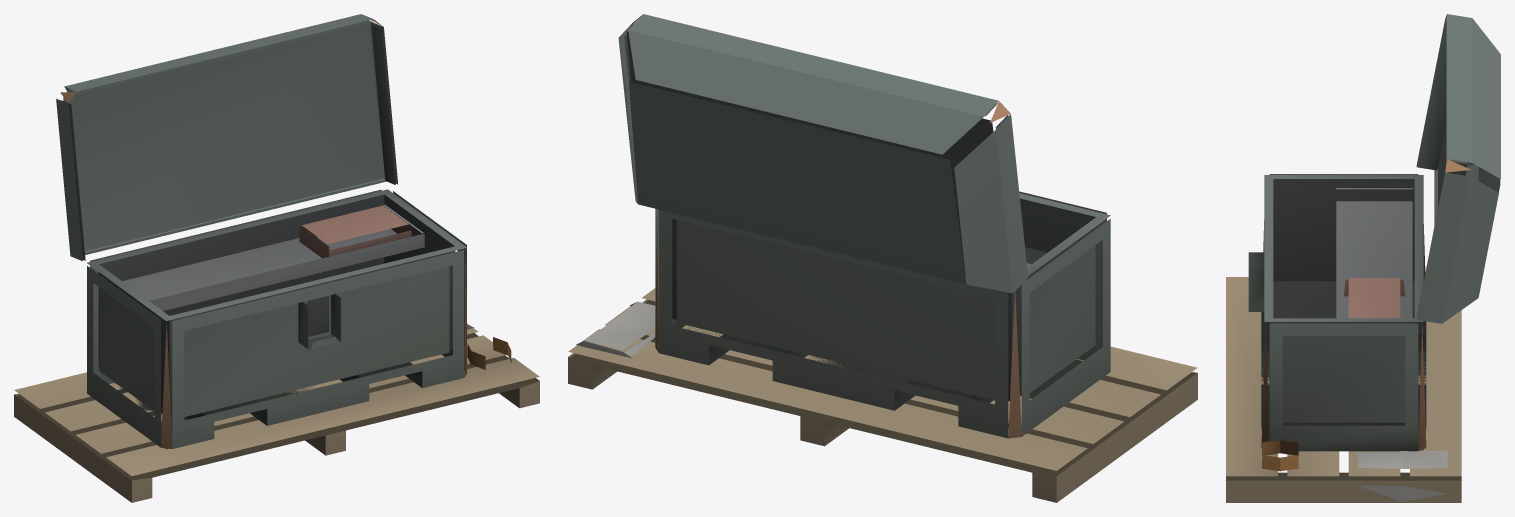
File: vault.lod.glb
3 views of the same model, side by side, from view 1: azimuth 30°, elevation 25°; view 2: azimuth 150°, elevation 25°; view 3: azimuth 270°, elevation 25° (orthographic). The views are drawn at different scales.
Visible parts, largest first — view 1: vault; view 2: vault; view 3: vault.
Part boxes in pixels (x1,y1,x2,y2): vault: [14, 14, 539, 502]; vault: [568, 14, 1197, 502]; vault: [1226, 14, 1500, 502].
Bounding box in the file's own units: 2.01 × 1.48 × 1.17.
